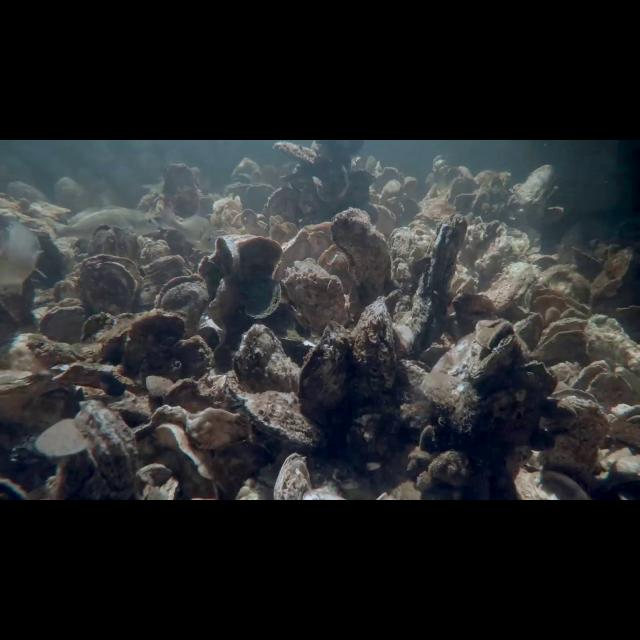Oyster-Closed: (407, 215, 468, 345), (224, 380, 322, 448), (328, 205, 395, 299), (294, 320, 350, 420), (278, 256, 351, 331), (231, 320, 303, 393), (353, 296, 403, 393), (156, 422, 220, 492)
Oyster-Open: (75, 254, 146, 313), (461, 320, 525, 380), (152, 271, 210, 314), (531, 317, 587, 353), (570, 363, 617, 393), (440, 176, 478, 207), (530, 286, 565, 310), (564, 295, 594, 318)
